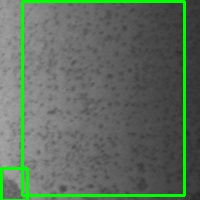pitted_surface: (23, 1, 184, 195), (1, 168, 27, 200)
